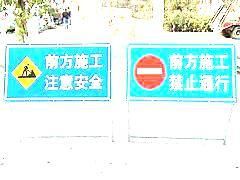sign: (4, 44, 112, 101), (128, 44, 236, 100)
